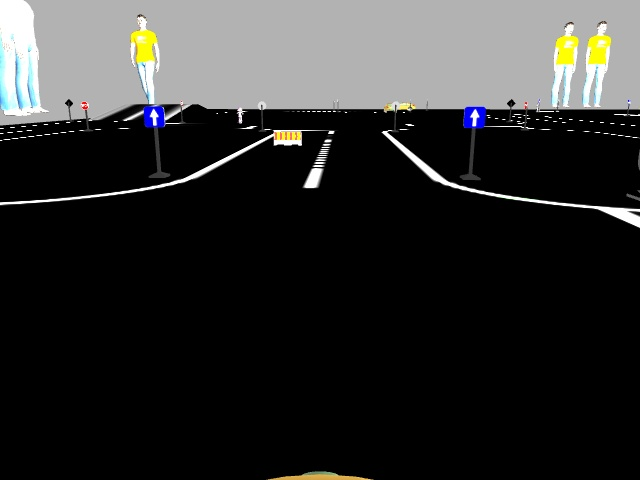ClosedRoadStand: (272, 129, 301, 145)
OneWay: (465, 108, 484, 127), (142, 108, 163, 125)
